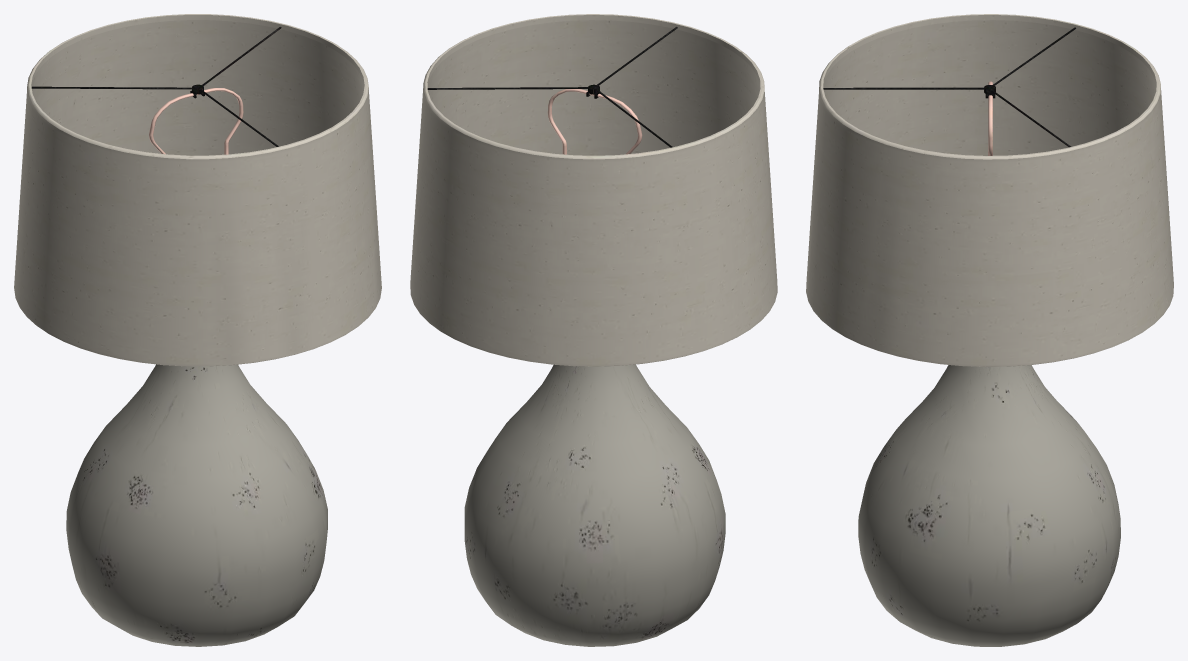
Rendered from B073751DMM.glb.
The picture shows the model from 3 angles, left to right: view 1: azimuth 30°, elevation 25°; view 2: azimuth 150°, elevation 25°; view 3: azimuth 270°, elevation 25°; orthographic projection.
Visible parts, largest first — view 1: RootNode; view 2: RootNode; view 3: RootNode.
Boxes of the visible parts, x1=… form: RootNode: x1=14, y1=14, x2=381, y2=646; RootNode: x1=410, y1=14, x2=777, y2=646; RootNode: x1=806, y1=14, x2=1173, y2=646.
Size of the model in its own units: 0.3298 by 0.5214 by 0.3296.
Materials: 1 (1 with a texture image).
